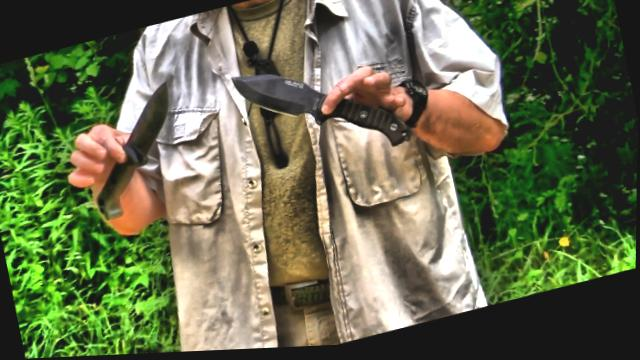knife: (225, 32, 418, 189), (73, 75, 198, 227)
